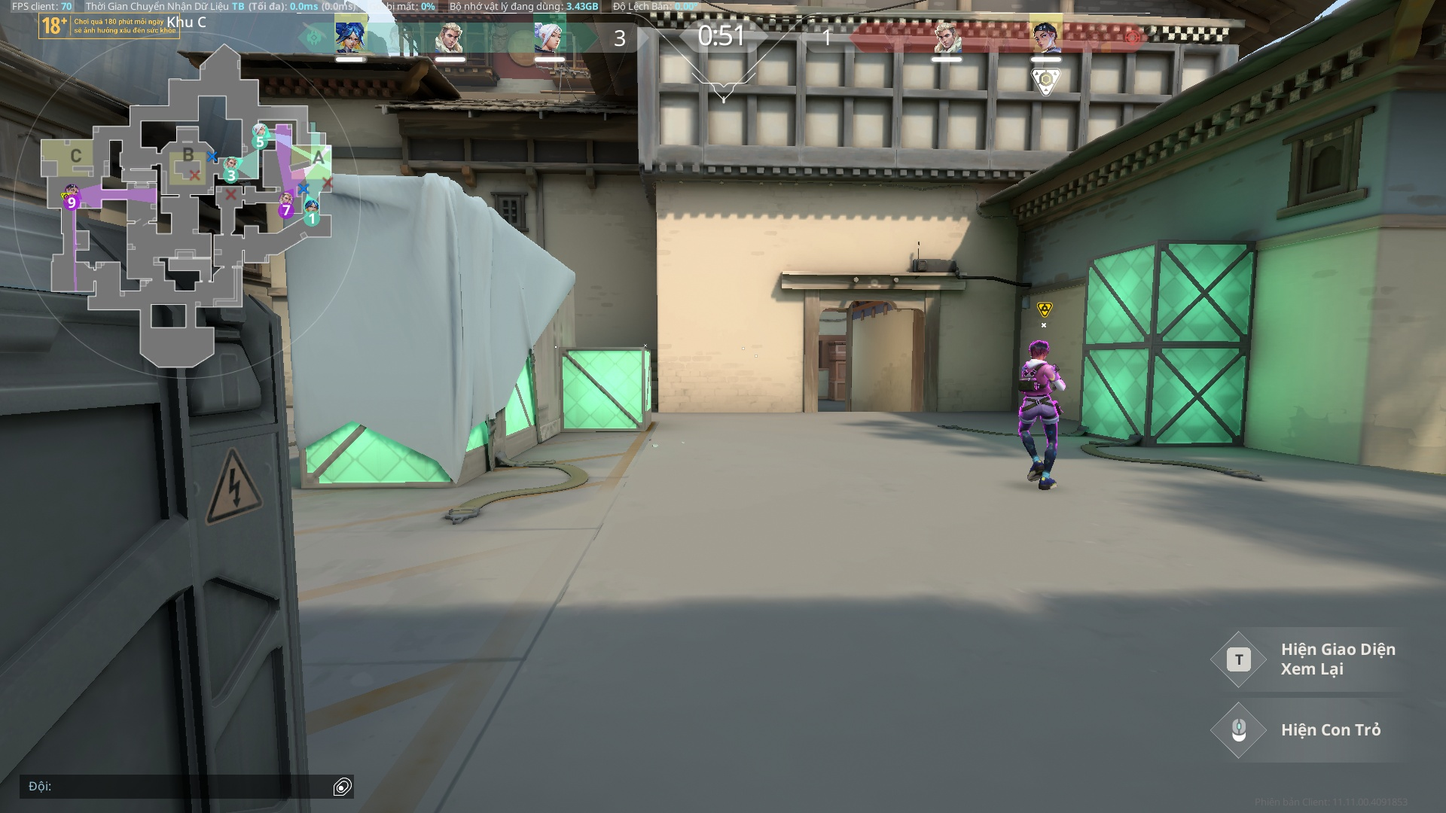body: (1023, 358, 1052, 394)
head: (1027, 339, 1050, 361)
